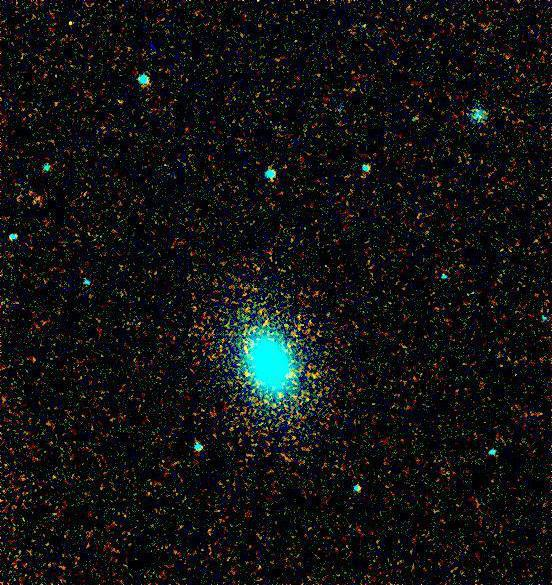star: (266, 383, 296, 413)
